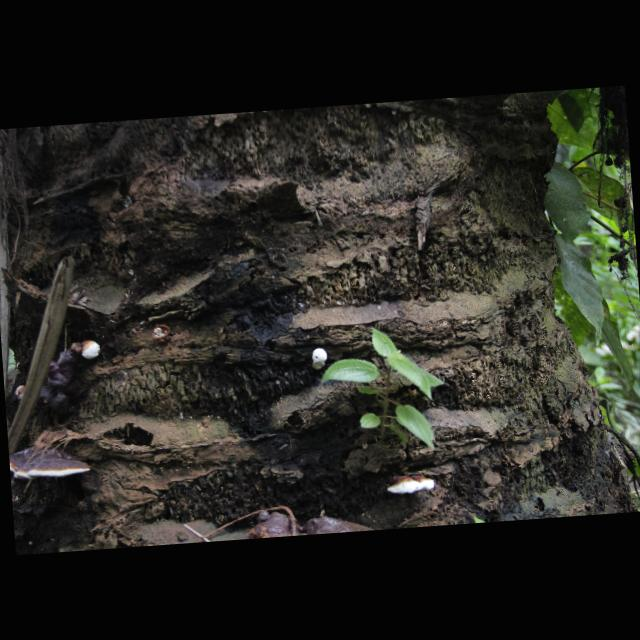ganoderma: (34, 343, 87, 413), (9, 440, 91, 482), (298, 513, 377, 536), (246, 508, 301, 541), (387, 473, 437, 498)
primordium: (310, 347, 330, 372), (81, 339, 102, 361), (15, 386, 26, 397)
